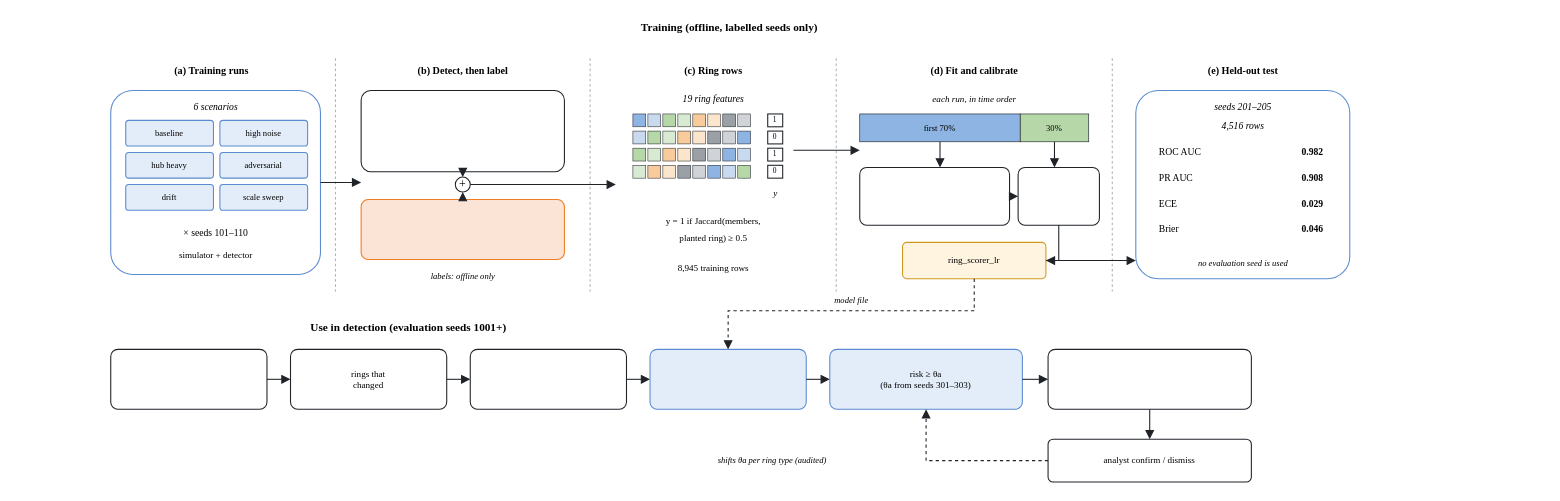
Image size: 1560x501. Some labels were removed from this diagram. Each missing label, with the box of its shape:
19 features per ring: (469, 348, 626, 409)
alert: contributions, evidence, counterfactual: (1047, 348, 1251, 409)
ground-truth ledger (planted rings): (360, 198, 564, 259)
isotonic 3,133: (1017, 166, 1099, 225)
logistic regression 5,812 rows: (859, 166, 1010, 225)
micro-batch of 50 events: (110, 348, 267, 409)
ring snapshots (every confirmed or changed candidate): (360, 89, 564, 172)
ring_scorer_lr + isotonic: (649, 348, 806, 409)
